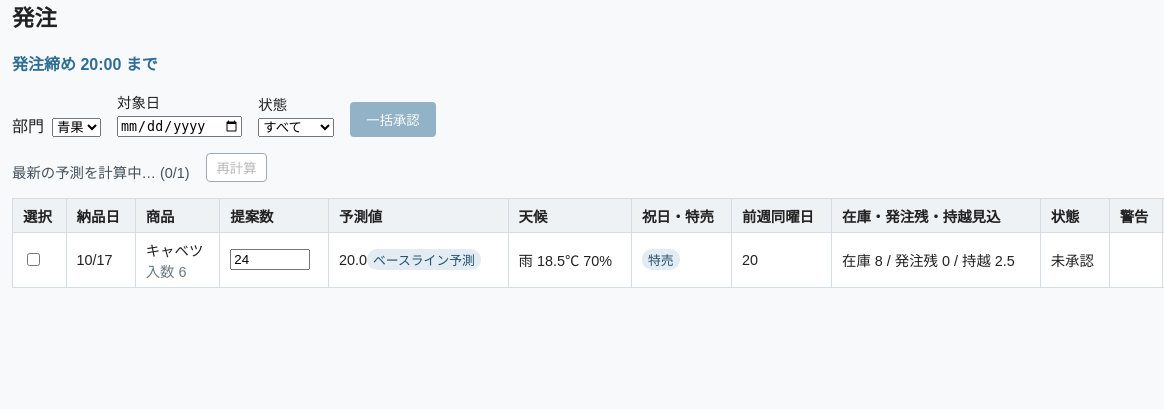
Scenario: unsaved input is kept when a recalculation finishes, until the user applies it
Expected: the heading "発注" is shown, [12,6,57,31]
Clear the number field named "キャベツ の提案数" at (270, 260), box [230,249,310,270]
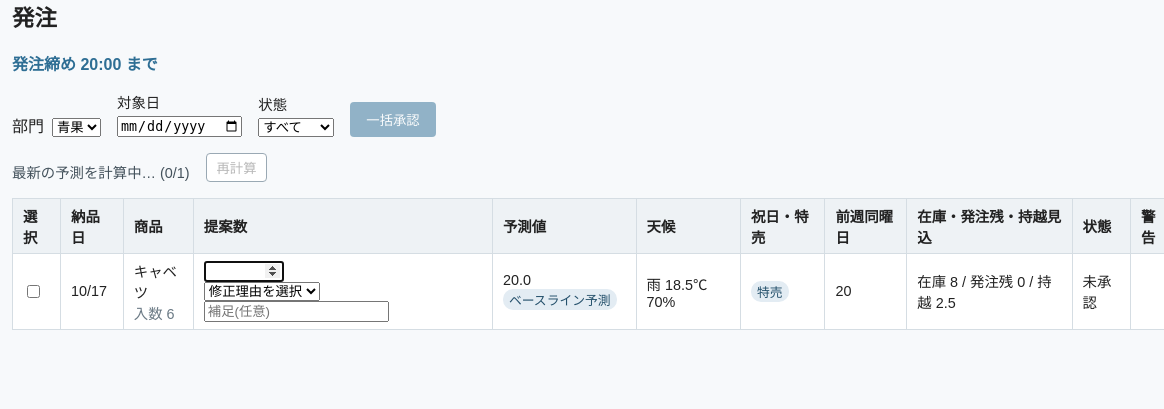
Type "20" into the number field named "キャベツ の提案数".
click(244, 271); type("20")  # box [204,261,284,282]
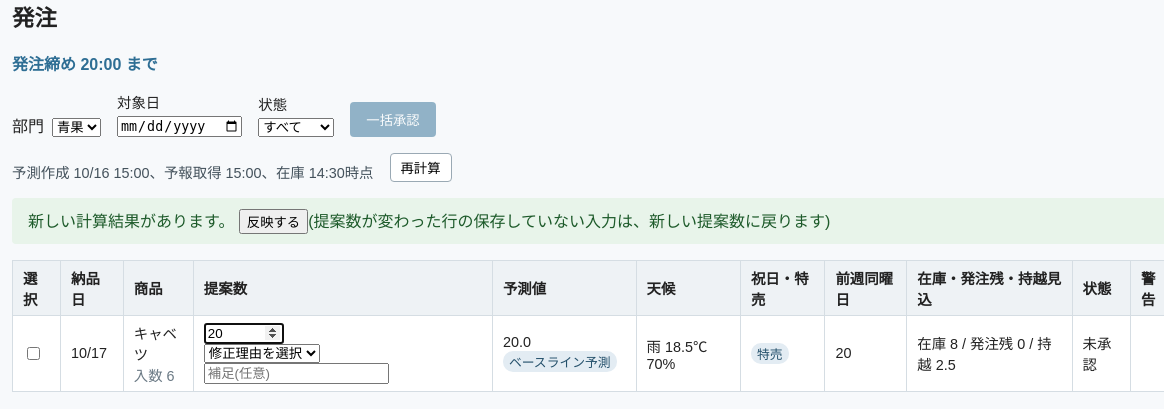
Expected: the text "新しい計算結果があります。" is shown, [28,213,234,230]
Click the button "反映する".
click(274, 221)  # box [239,209,308,234]
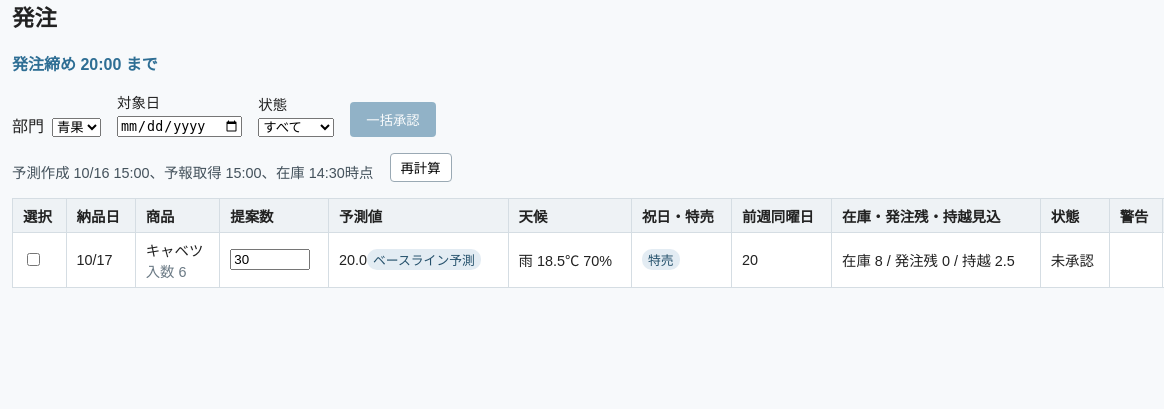
Expected: the number field named "キャベツ の提案数" holds "30", [230,249,310,270]
Expected: the text "新しい計算結果があります。" is gone
